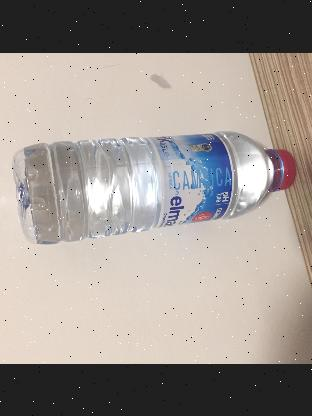Plastic Bottle: (12, 131, 296, 243)
